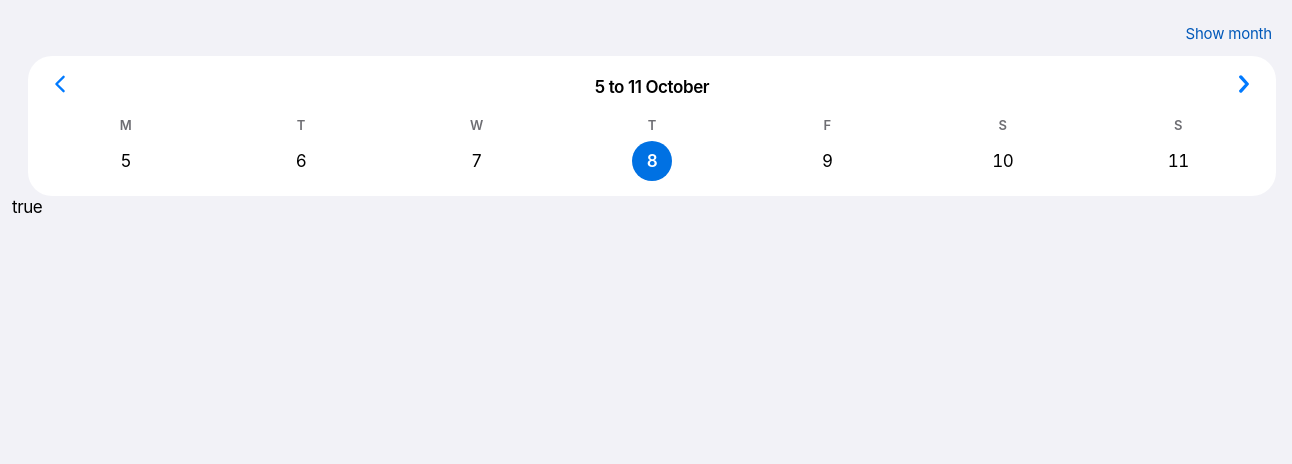
Scenario: DatePicker › a screen can keep the view itself (useCalendarView), and tell which days are shown
Click the button named "Next week": coordinates (1244, 84) [1222, 62, 1266, 106]
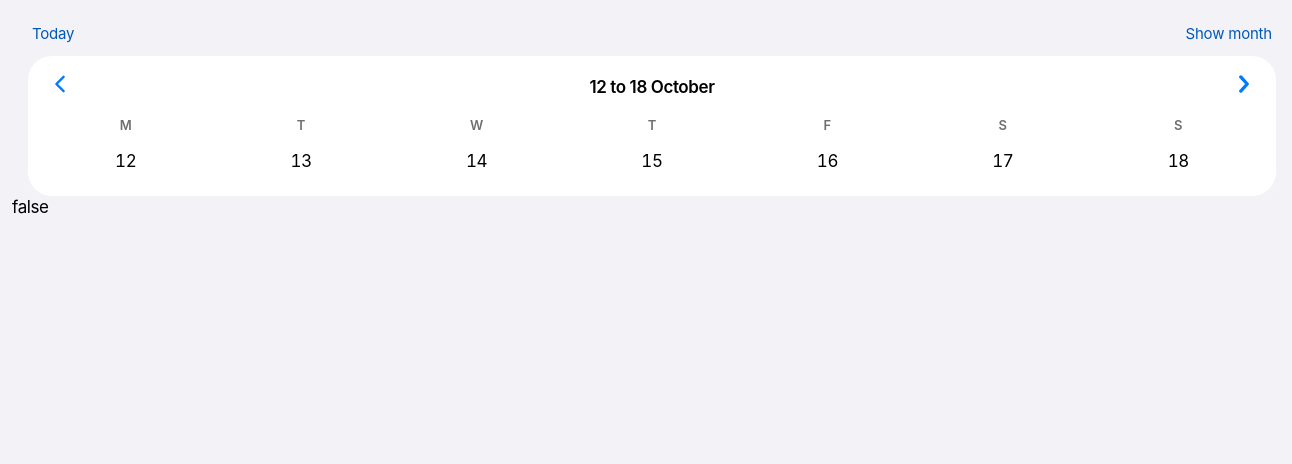
Check: the text "false" is shown, box [12, 197, 49, 217]
Click the button "Show month": coordinates (1229, 34) [1182, 12, 1276, 56]
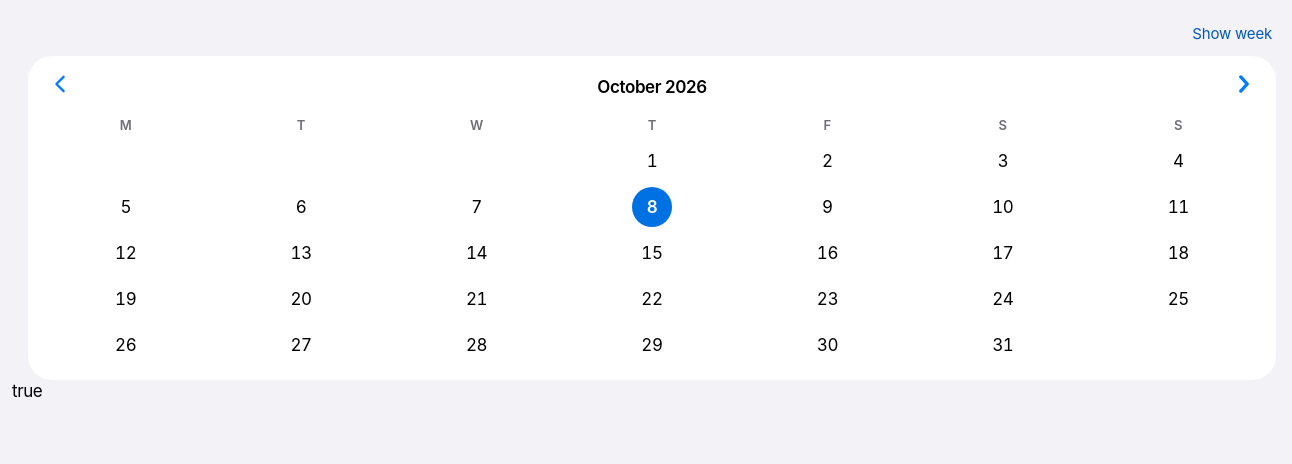
Check: the text "true" is shown, box [12, 381, 42, 401]
Click the button named "Next month": coordinates (1244, 84) [1222, 62, 1266, 106]
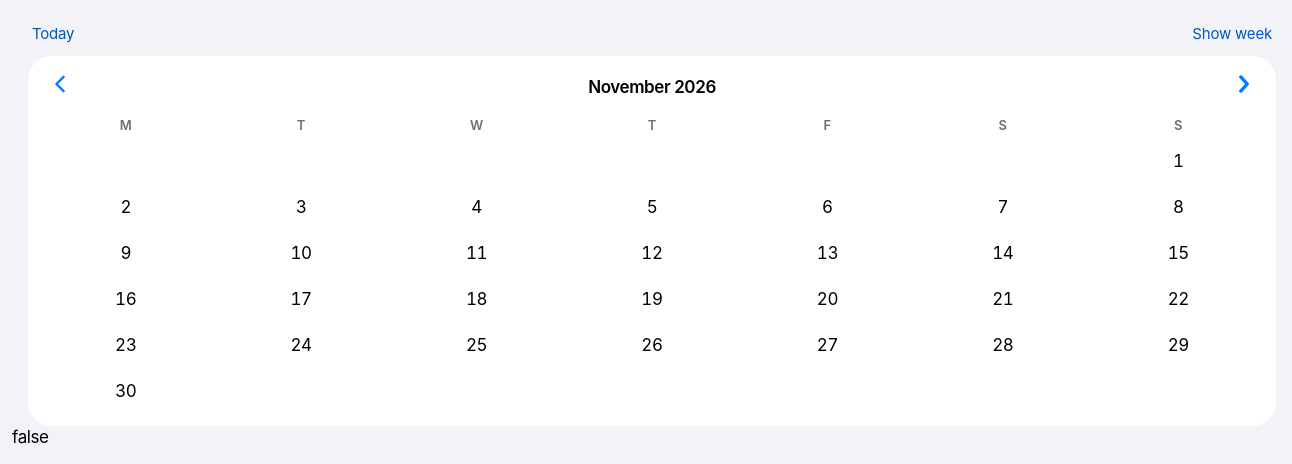
Check: the text "false" is shown, box [12, 427, 49, 447]
